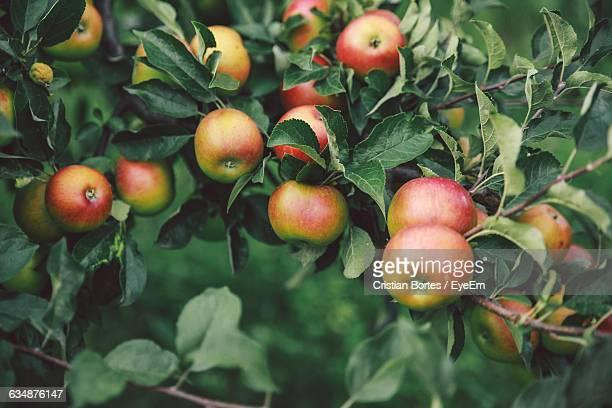apple: (381, 223, 474, 310), (385, 176, 477, 237), (191, 106, 262, 184), (266, 179, 346, 248), (43, 163, 112, 236), (337, 11, 405, 73), (113, 156, 174, 215), (271, 104, 329, 157)
